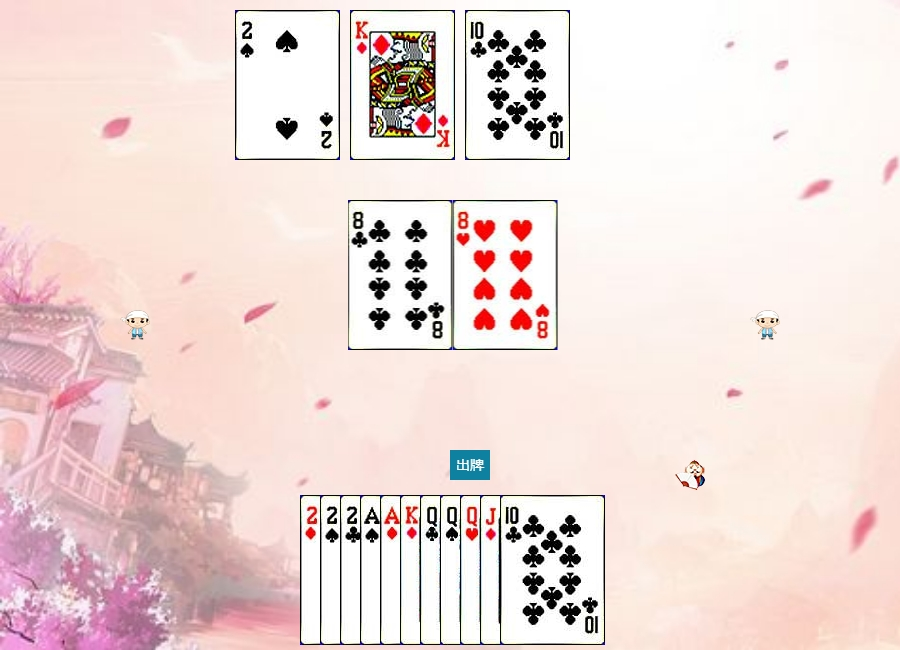10~2: (465, 10, 570, 160), (500, 495, 605, 645)
11~1: (480, 495, 585, 645)
12~2: (420, 495, 525, 645)
12~3: (460, 495, 565, 645)
12~4: (440, 495, 545, 645)
13~1: (350, 10, 455, 160), (400, 495, 505, 645)
14~1: (380, 495, 485, 645)
14~4: (360, 495, 465, 645)
15~1: (300, 495, 405, 645)
15~2: (340, 495, 445, 645)
15~4: (235, 10, 340, 160), (320, 495, 425, 645)
8~2: (348, 200, 453, 350)
8~3: (453, 200, 558, 350)
